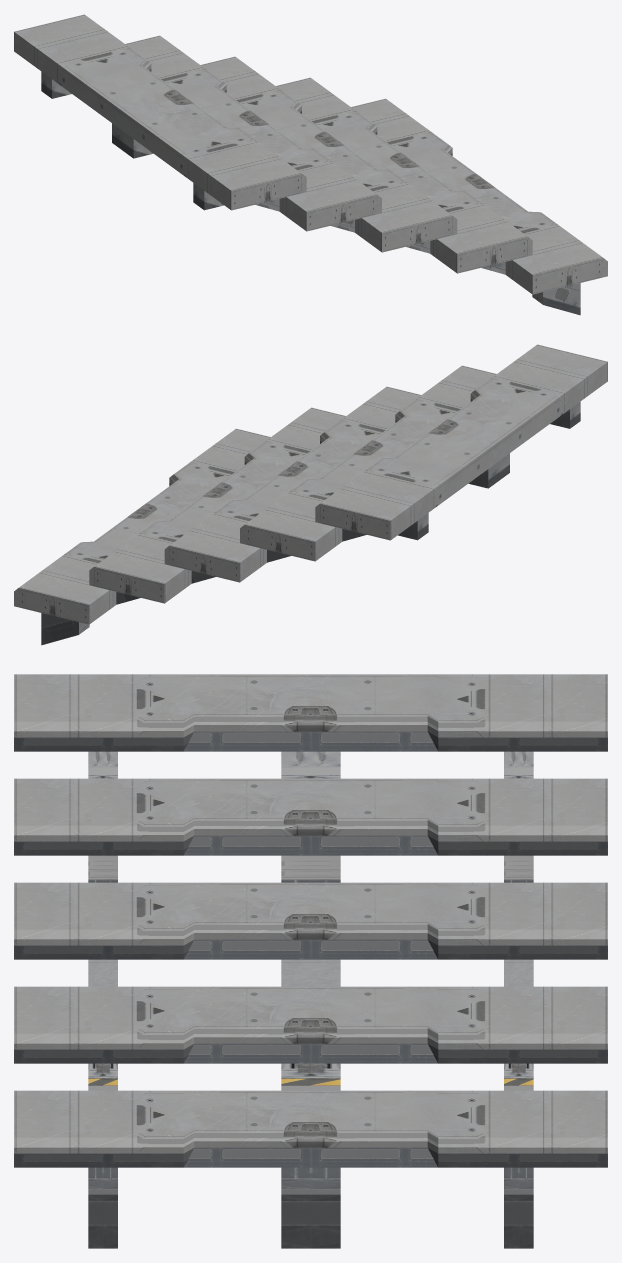
File: SM_stairS1c.fbx
3 views of the same model, one above another, from view 1: azimuth 30°, elevation 25°; view 2: azimuth 150°, elevation 25°; view 3: azimuth 270°, elevation 25° (orthographic). The views are drawn at different scales.
Visible parts, largest first — view 1: SM_stairS1c_LOD0; view 2: SM_stairS1c_LOD0; view 3: SM_stairS1c_LOD0.
Part boxes in pixels (<box>): SM_stairS1c_LOD0: <box>14,14,607,315</box>; SM_stairS1c_LOD0: <box>14,344,607,645</box>; SM_stairS1c_LOD0: <box>14,674,607,1248</box>.
Bounding box in the file's own units: 200 × 200 × 120.
Materials: 2 (2 with a texture image).
